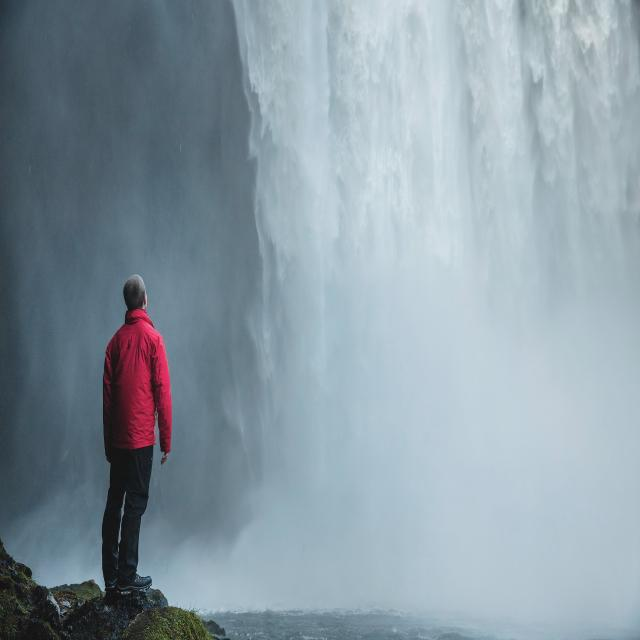adult: (99, 272, 175, 598)
